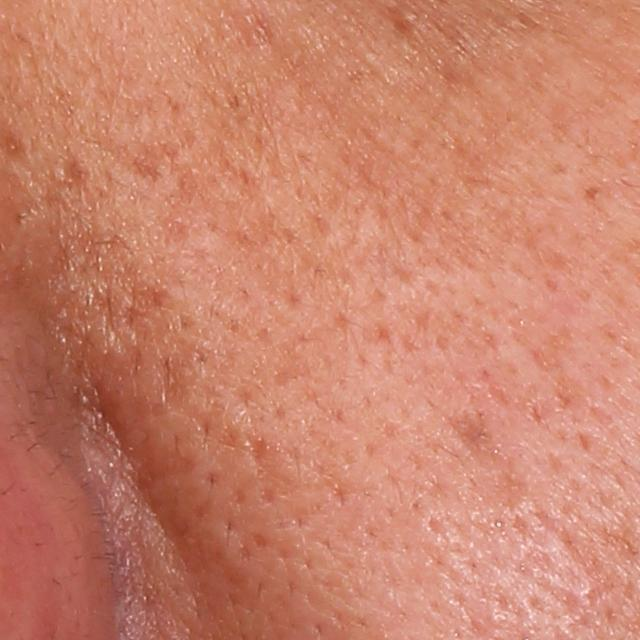atrophic_scar: (556, 529, 624, 609), (113, 137, 162, 183)
melasma: (455, 412, 499, 476)
